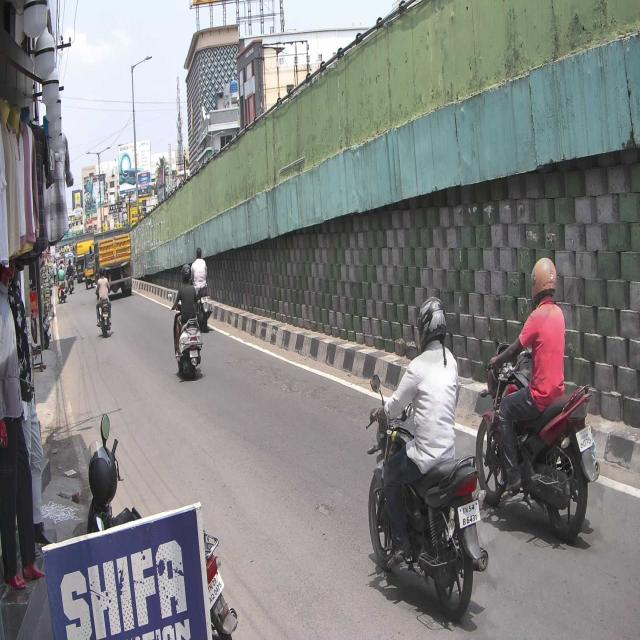single_rider: (478, 255, 600, 543), (368, 300, 473, 617)
